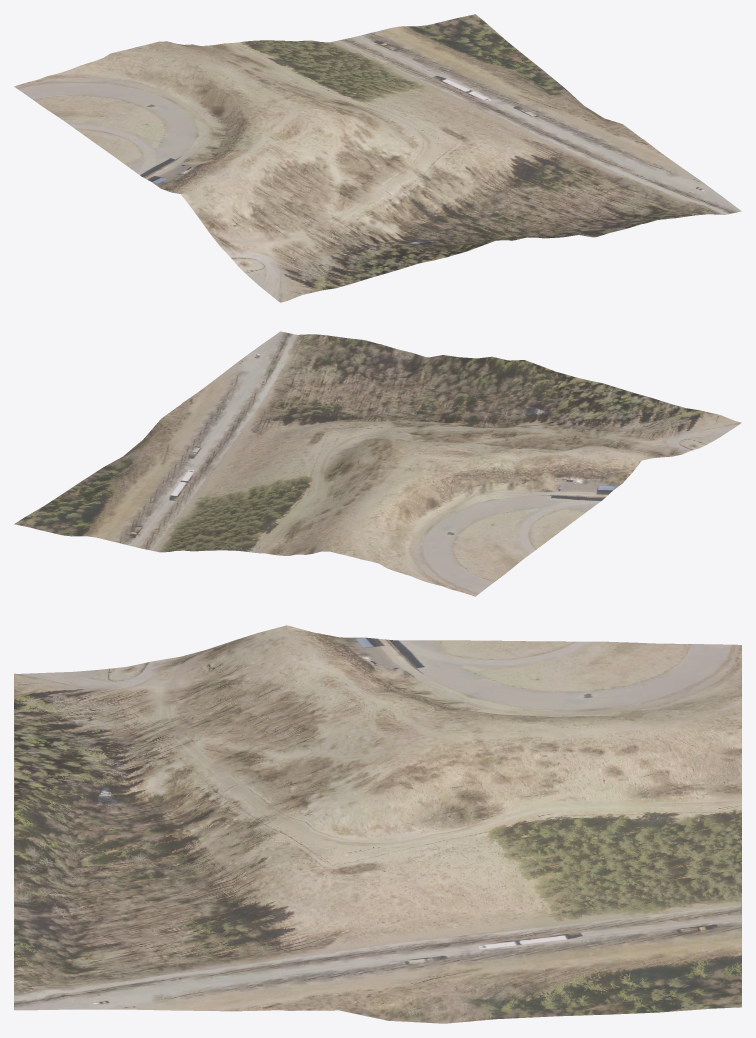
The model's file is CM_Terrain_24492711_6816108.fbx.
The picture shows the model from 3 angles, top to bottom: view 1: azimuth 30°, elevation 25°; view 2: azimuth 150°, elevation 25°; view 3: azimuth 270°, elevation 25°; orthographic projection. The views are drawn at different scales.
Visible parts, largest first — view 1: CM_Terrain_24492711_6816108_LOD0; view 2: CM_Terrain_24492711_6816108_LOD0; view 3: CM_Terrain_24492711_6816108_LOD0.
Part boxes in pixels (x1=…): CM_Terrain_24492711_6816108_LOD0: x1=14, y1=14, x2=741, y2=302; CM_Terrain_24492711_6816108_LOD0: x1=14, y1=331, x2=741, y2=596; CM_Terrain_24492711_6816108_LOD0: x1=14, y1=625, x2=741, y2=1023.
Size of what is drawn, in the model's own units: 205 by 29.37 by 205.
